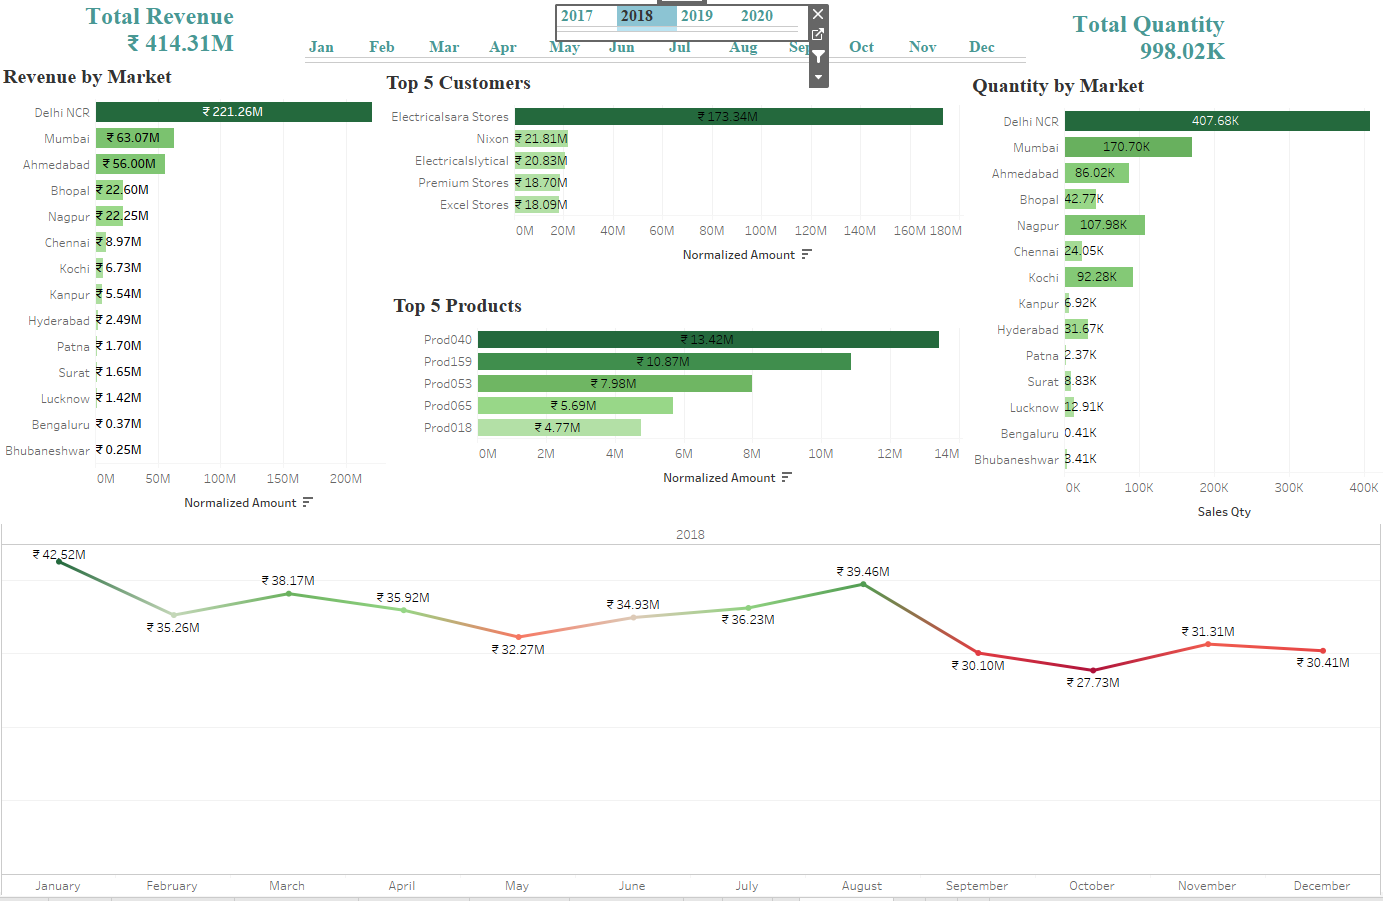

The page's visual inventory and layout, read from the dashboard file:
{"tool":"tableau","page":{"name":"Dashboard","canvas":[1700,900],"ordinal":0},"visuals":[{"type":"worksheet","title":"Quantity","mark":"Automatic","box":[1072,4,256,88]},{"type":"worksheet","title":"Total Revenue","mark":"Automatic","box":[101,11,187,75]},{"type":"worksheet","title":"Year","mark":"Automatic","cols":["cy_date"],"box":[580,14,251,34]},{"type":"worksheet","title":"Month","mark":"Automatic","cols":["cy_date"],"box":[328,45,729,50]},{"type":"worksheet","title":"Revenue by Market","mark":"Automatic","rows":["markets_name"],"cols":["Calculation_656118194912772096"],"box":[22,69,387,496]},{"type":"worksheet","title":"Top 5 Customers","mark":"Automatic","rows":["custmer_name"],"cols":["Calculation_656118194912772096"],"box":[405,75,582,207]},{"type":"worksheet","title":"Quantity by Market","mark":"Automatic","rows":["markets_name"],"cols":["sales_qty"],"box":[991,78,417,464]},{"type":"worksheet","title":"Top 5 Products","mark":"Automatic","rows":["product_code (products)"],"cols":["Calculation_656118194912772096"],"box":[412,298,578,226]},{"type":"worksheet","title":"Revenue by years","mark":"Line","rows":["Calculation_656118194912772096"],"cols":["date","date"],"box":[24,532,1380,372]}]}

Visuals, with their boxes on the page's 1700x900 design canvas (x1, y1, x2, y2). These are canvas units, not pixel positions in the 1383x901 screenshot, which may show the page scaled, cropped or inside an application window:
"Quantity" worksheet: l=1072, t=4, r=1328, b=92
"Total Revenue" worksheet: l=101, t=11, r=288, b=86
"Year" worksheet: l=580, t=14, r=831, b=48
"Month" worksheet: l=328, t=45, r=1057, b=95
"Revenue by Market" worksheet: l=22, t=69, r=409, b=565
"Top 5 Customers" worksheet: l=405, t=75, r=987, b=282
"Quantity by Market" worksheet: l=991, t=78, r=1408, b=542
"Top 5 Products" worksheet: l=412, t=298, r=990, b=524
"Revenue by years" worksheet (Line marks): l=24, t=532, r=1404, b=904
